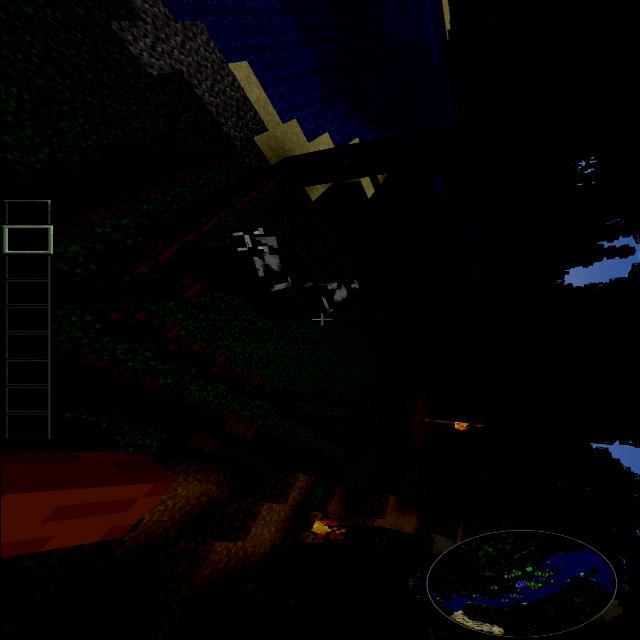cow: (147, 218, 308, 318), (278, 268, 369, 326)
